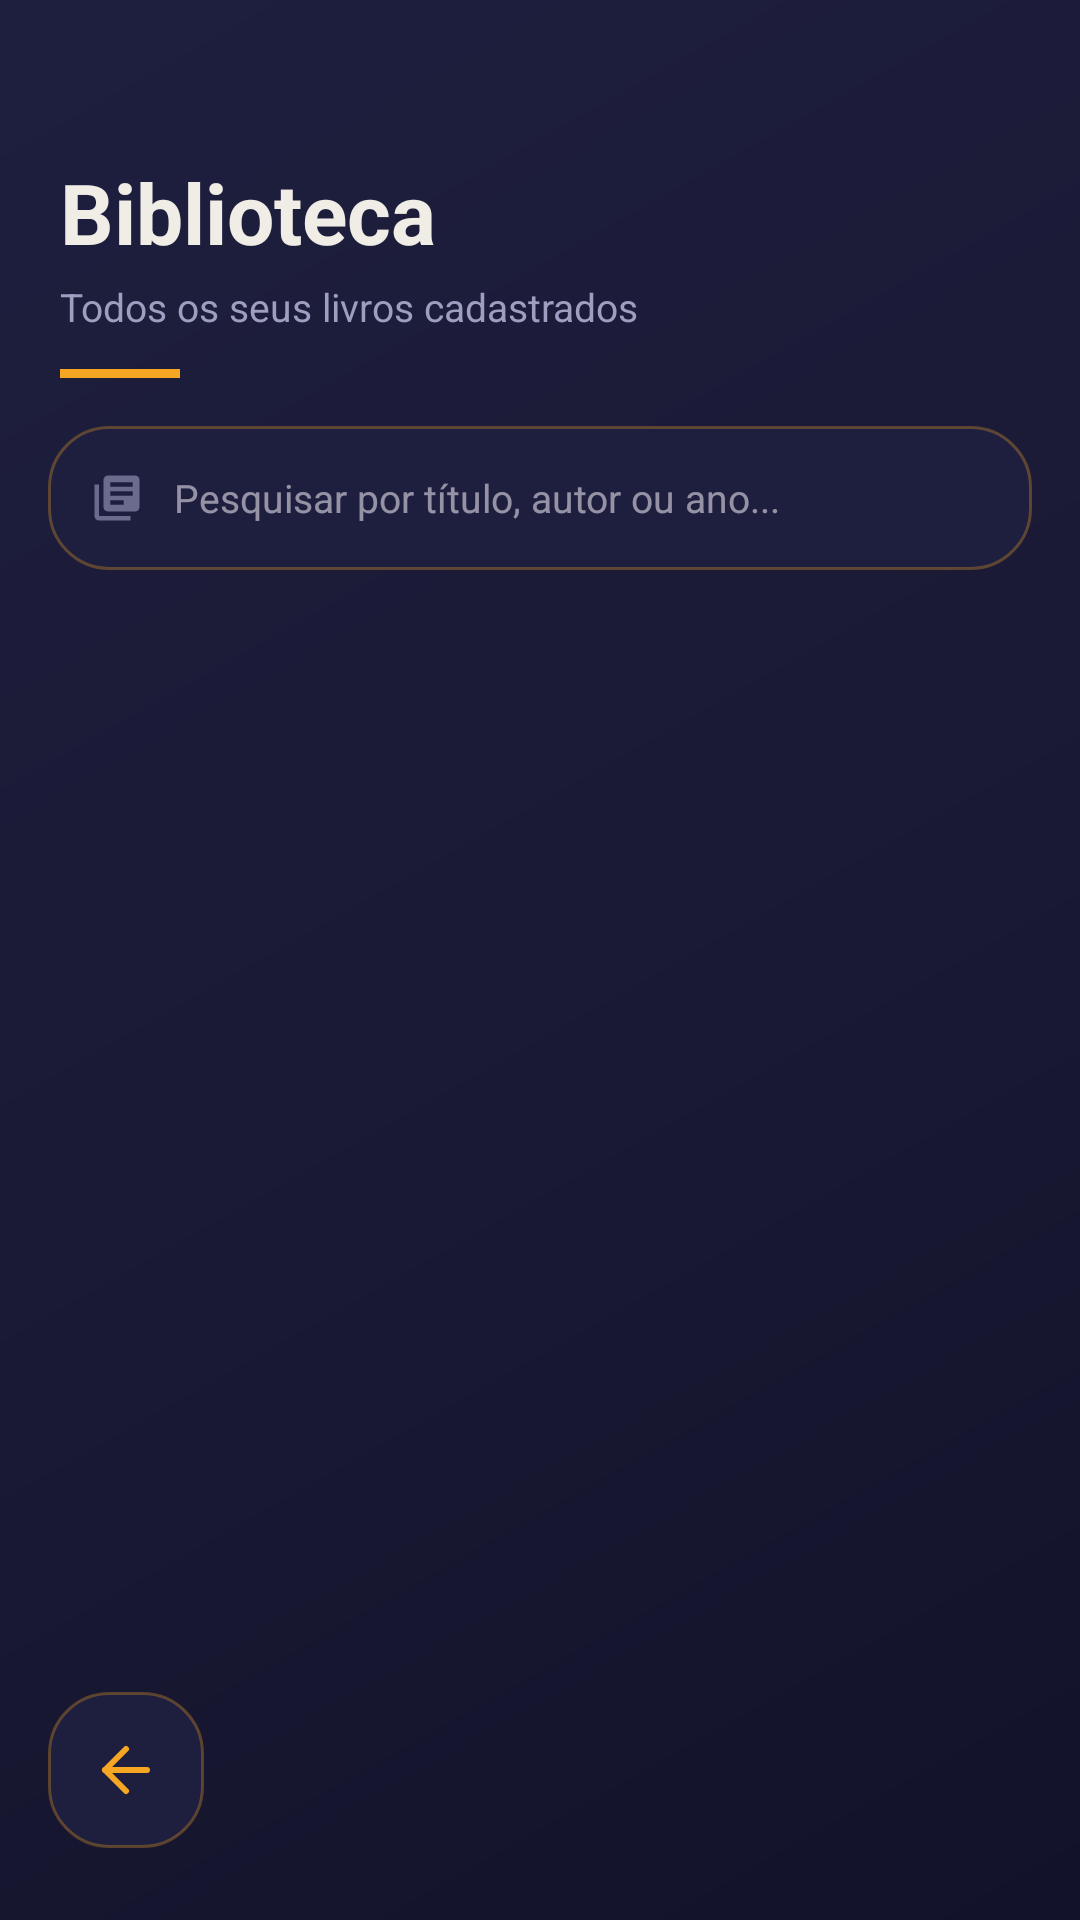

Icons on this 1080w x 1920h Android screen, each with its box as (x1, y1, x2, y2):
Voltar: (48, 1692, 204, 1848)
